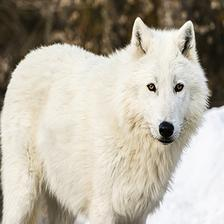WOLF: (1, 16, 212, 224)
